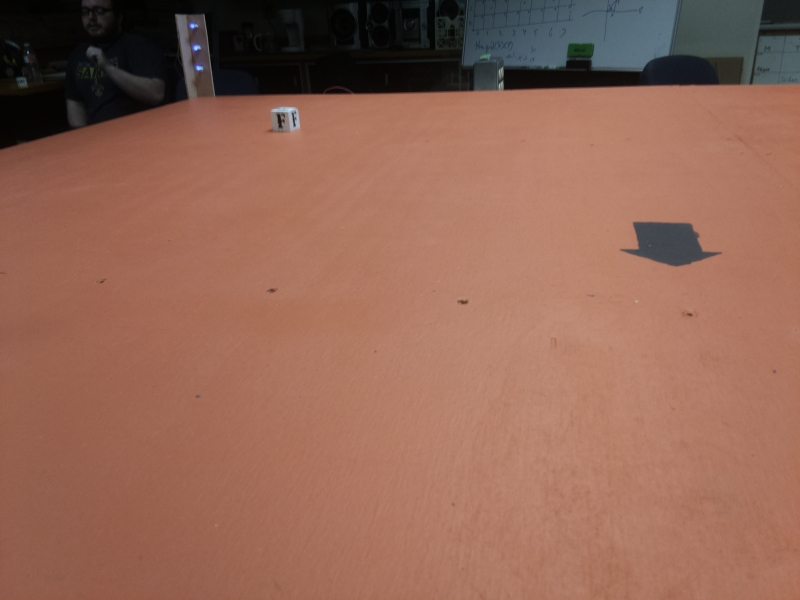blockF: (268, 102, 302, 133)
corner: (173, 11, 224, 100)
start: (616, 215, 721, 265)
